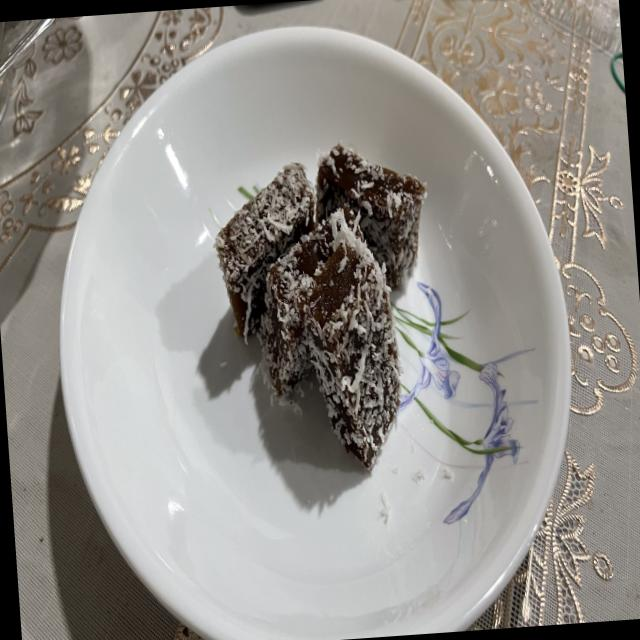kaswi: (295, 237, 405, 464), (257, 205, 369, 402), (214, 163, 314, 341), (316, 145, 425, 288)
